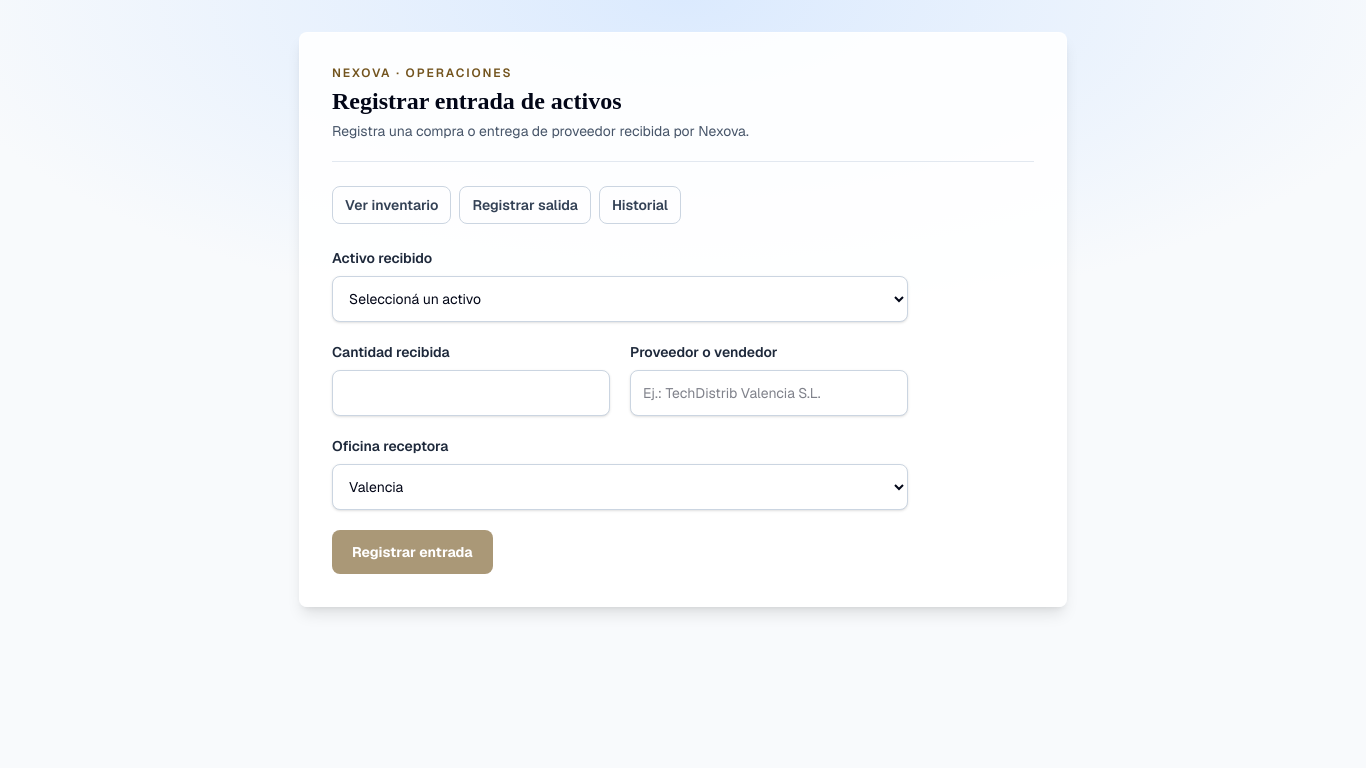
Scenario: InboundOrderPage › permite registrar la entrada en una oficina distinta a la del activo
Select "Portátil 14\" Business (NXV-IT-001) · Valencia" in the dropdown labelled "Activo recibido" at (620, 299), box [332,276,908,322]
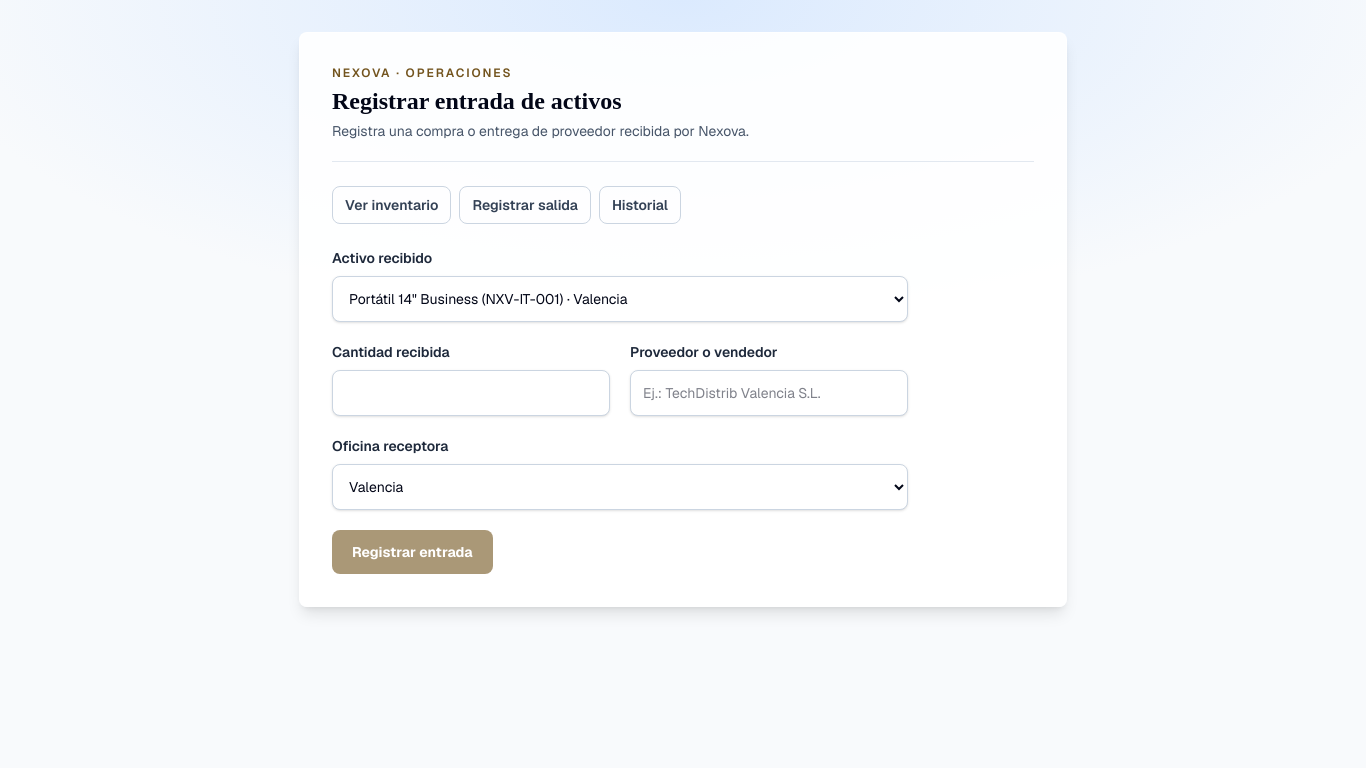
Select "Miami" in the dropdown labelled "Oficina receptora" at (620, 487), box [332,464,908,510]
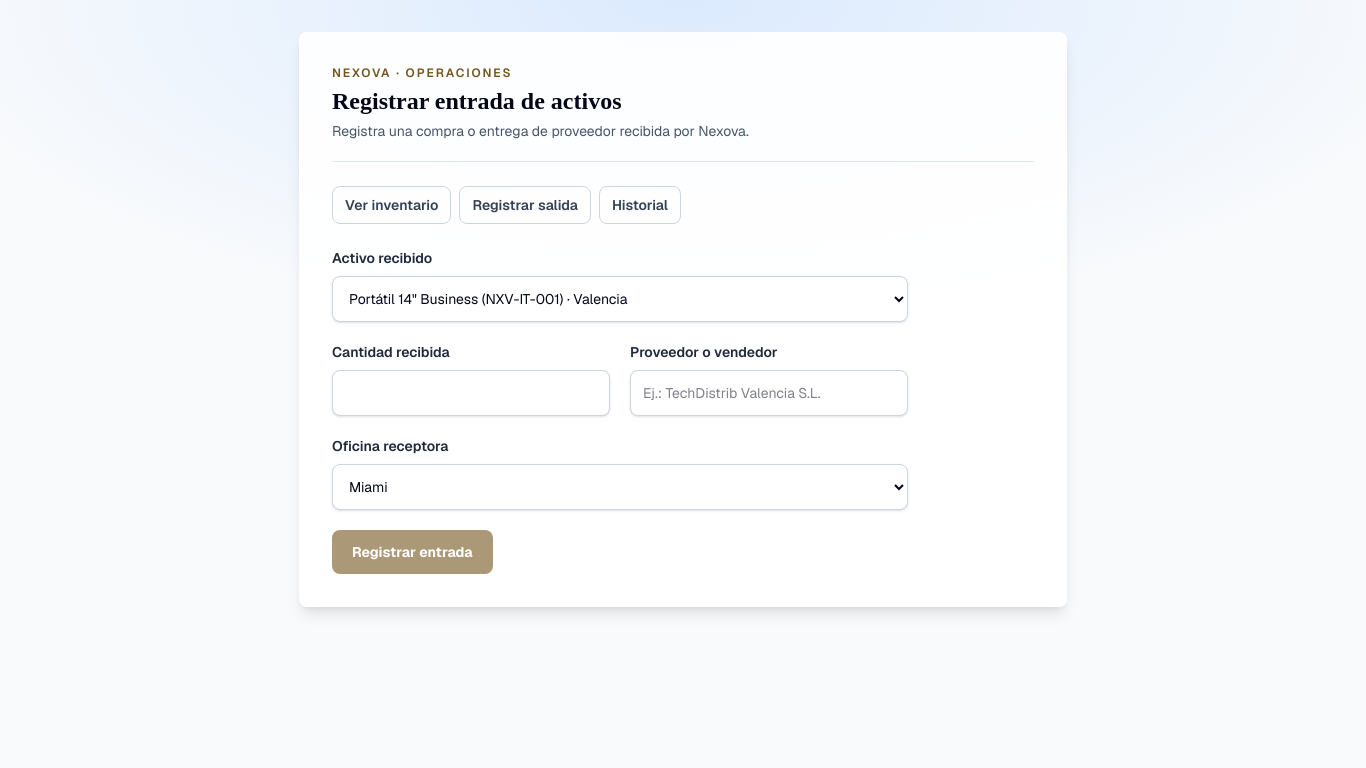
Type "3" into the number field labelled "Cantidad recibida" at (471, 393), box [332,370,610,416]
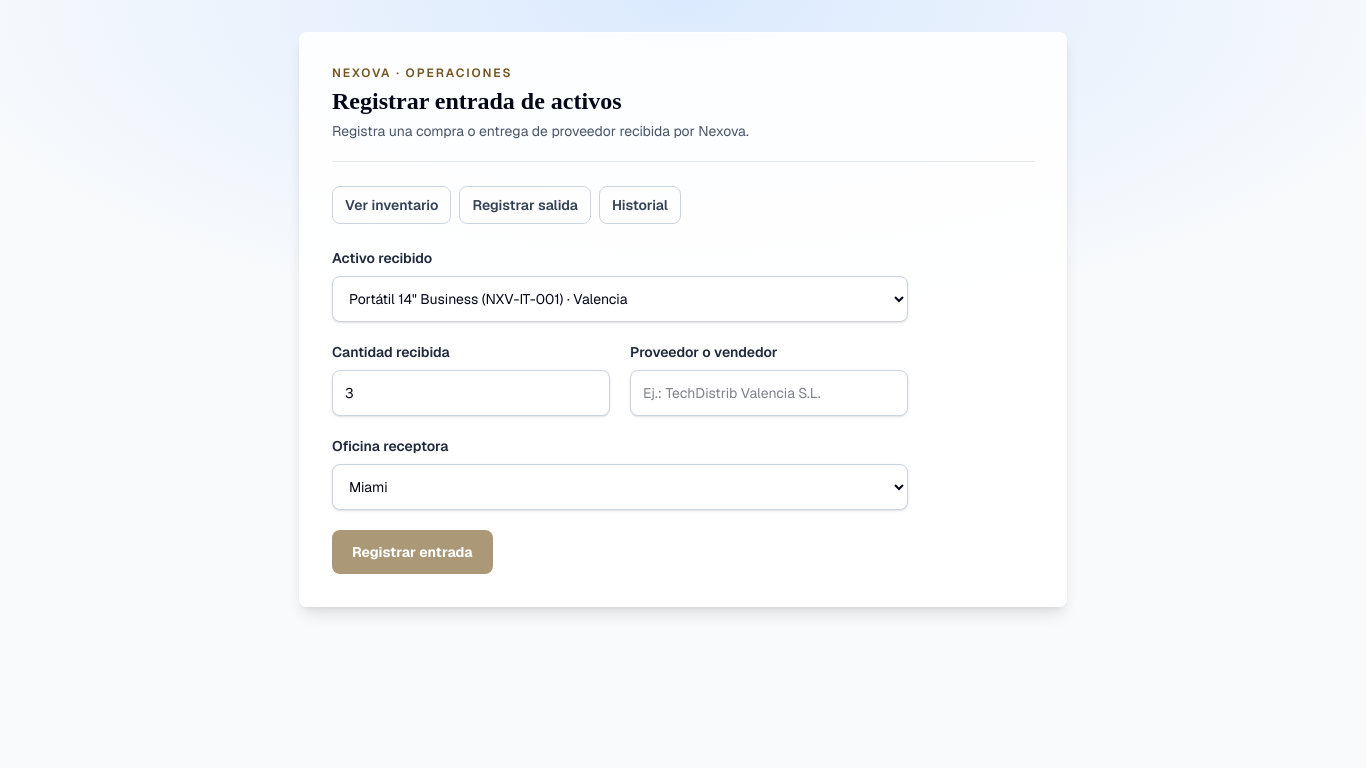
Type " TechDistrib Valencia S.L. " into the field labelled "Proveedor o vendedor" at (769, 393), box [630,370,908,416]
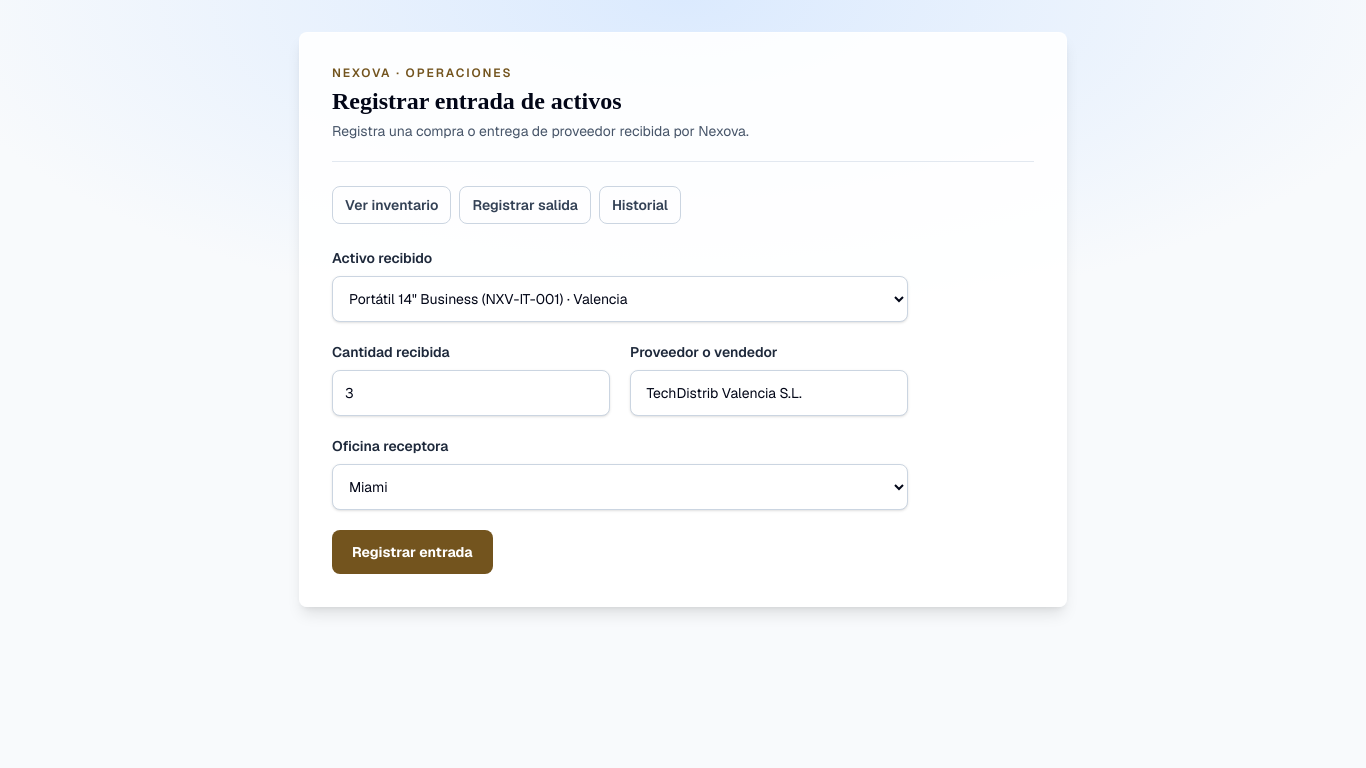
Click the button "Registrar entrada" at (412, 552), box [332,530,493,574]
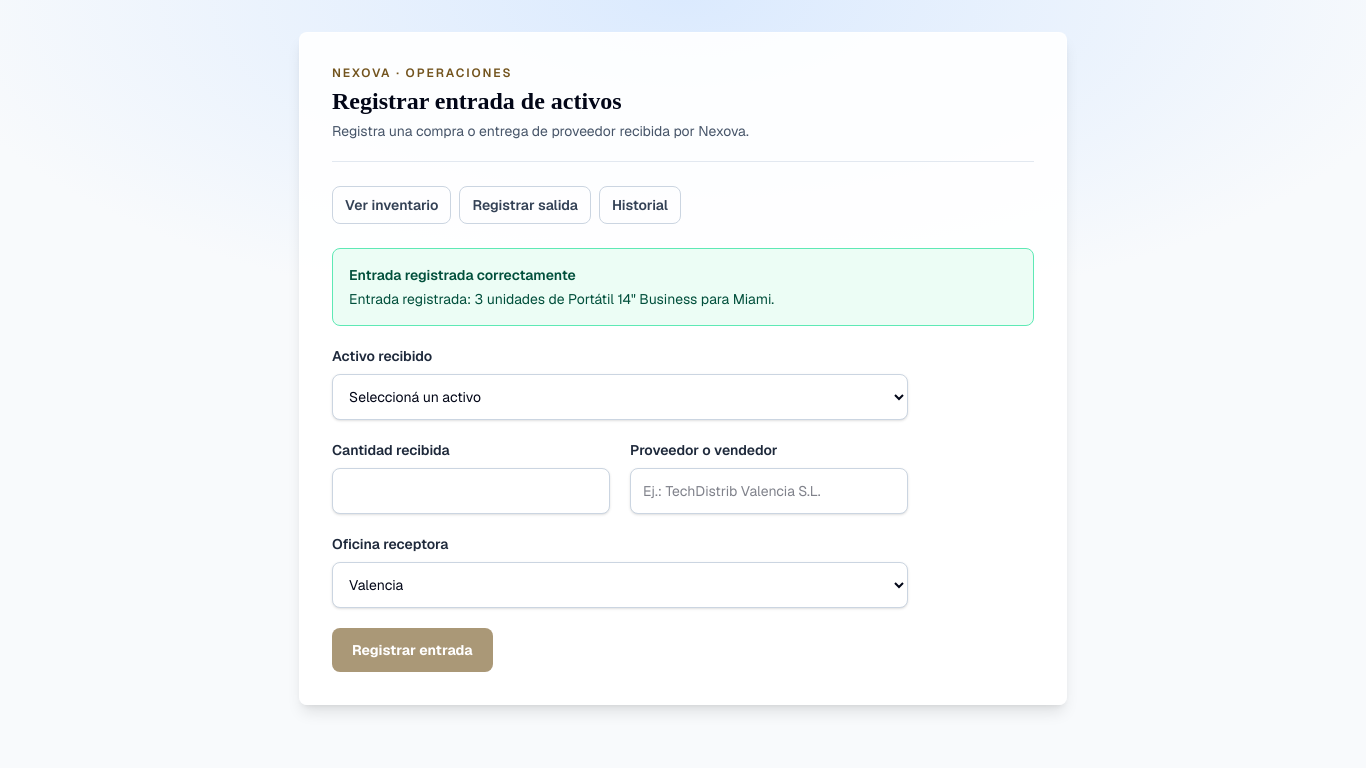
Expected: the message shows "para Miami", [349,290,774,308]
